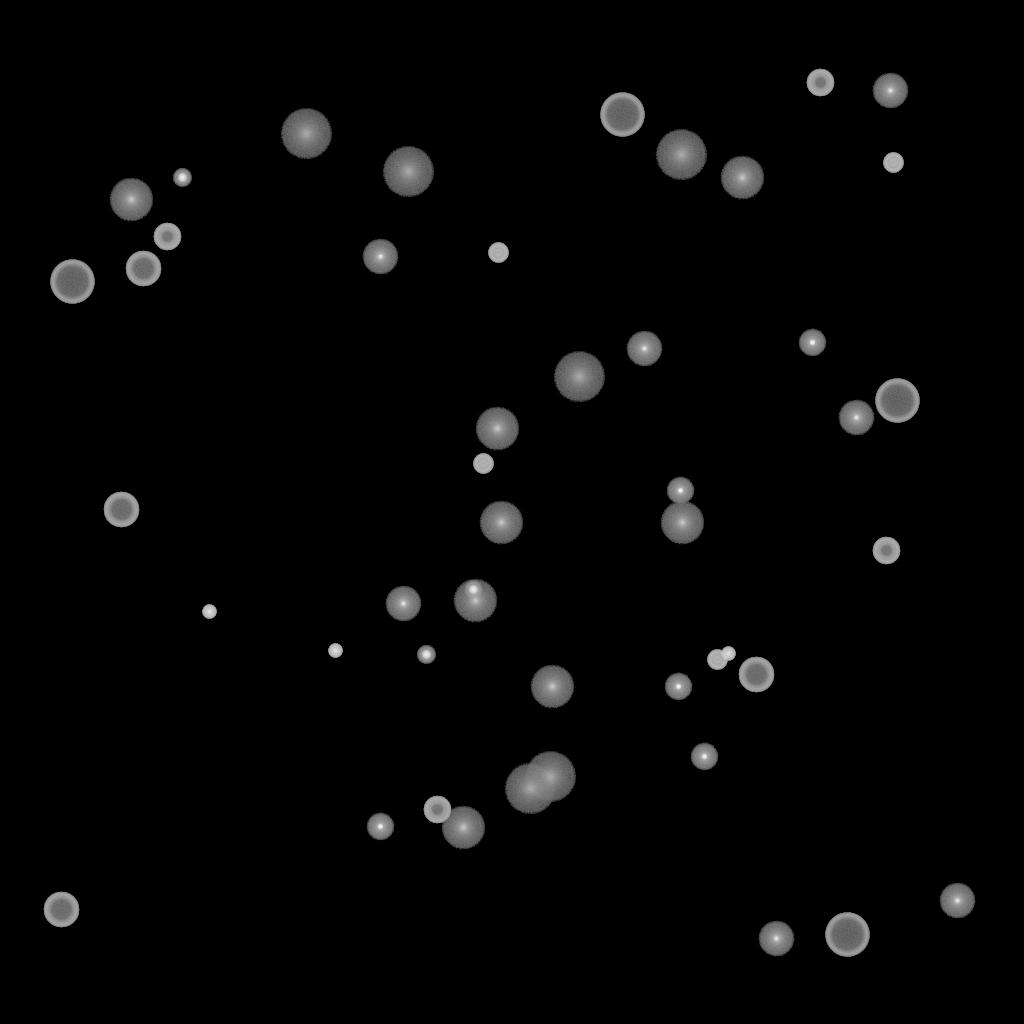depth:-10: (664, 673, 692, 701), (798, 329, 826, 357), (690, 743, 718, 771), (366, 813, 394, 841), (666, 477, 694, 505)
depth:-20: (464, 581, 482, 599), (173, 169, 191, 187), (417, 646, 435, 664)
depth:-30: (328, 644, 342, 658), (202, 605, 216, 619), (721, 647, 735, 661)
depth:-40: (473, 454, 493, 474), (707, 650, 727, 670), (883, 153, 903, 173), (488, 243, 508, 263)
depth:-50: (423, 796, 451, 824), (806, 69, 834, 97), (872, 537, 900, 565), (153, 223, 181, 251)
depth:-60: (738, 657, 774, 693), (103, 492, 139, 528), (125, 251, 161, 287), (43, 892, 79, 928)
depth:-70: (600, 93, 644, 137), (825, 913, 869, 957), (50, 260, 94, 304), (875, 379, 919, 423)
depth:0: (362, 239, 398, 275), (872, 73, 908, 109), (939, 883, 975, 919), (385, 586, 421, 622), (758, 921, 794, 957), (626, 331, 662, 367), (838, 400, 874, 436)
depth:10: (530, 665, 574, 709), (441, 806, 485, 850), (475, 407, 519, 451), (720, 156, 764, 200), (479, 501, 523, 545), (660, 501, 704, 545), (453, 579, 497, 623), (109, 178, 153, 222)
depth:20: (382, 147, 434, 197), (280, 109, 332, 159), (655, 130, 707, 180), (504, 764, 556, 814), (524, 752, 576, 802), (553, 352, 605, 402)
